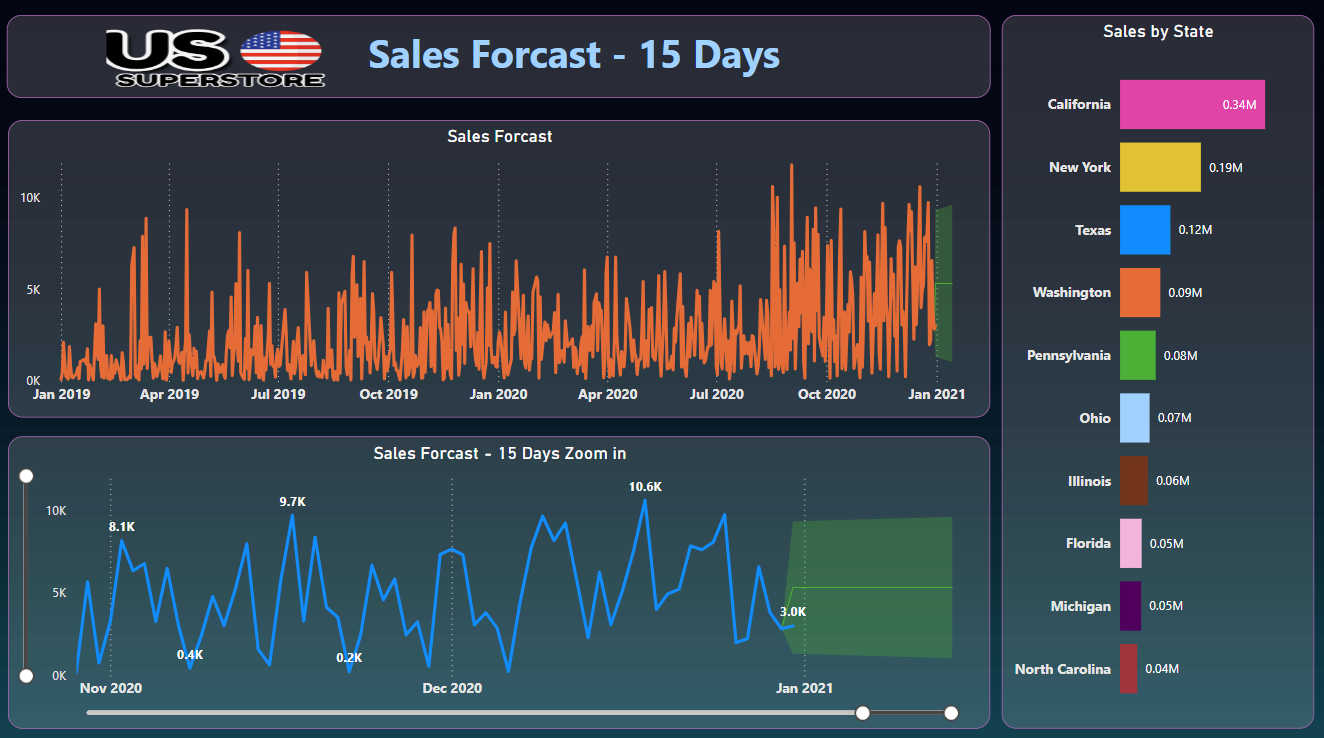

Layout of this report page (visuals, bound fields, positions):
{"tool":"powerbi","page":{"name":"Page 2","canvas":[1280,720],"ordinal":1},"visuals":[{"type":"lineChart","title":"Sales Forcast","fields":{"Y":["Sum(Super_Store_Sales.Sales)"],"Category":["Super_Store_Sales.Order Date"]},"box":[10.1,120.3,948.1,287.3],"z":0},{"type":"lineChart","title":"Sales Forcast - 15 Days Zoom in","fields":{"Y":["Sum(Super_Store_Sales.Sales)"],"Category":["Super_Store_Sales.Order Date"]},"box":[10.1,425.3,948.1,282.3],"z":1000},{"type":"textbox","box":[8.9,19,949.4,79.7],"z":2000},{"type":"barChart","title":"Sales by State","fields":{"Category":["Super_Store_Sales.State"],"Y":["Sum(Super_Store_Sales.Sales)"]},"box":[968.4,19,301.3,688.6],"z":3000},{"type":"image","box":[81.5,0,246.9,128.4],"z":4000}]}

Visuals, with their boxes in screenshot pixels (x1, y1, x2, y2), scaled from the page's 1280x720 canvas onto the 1324x738 screenshot:
"Sales Forcast" lineChart: <region>10, 123, 991, 418</region>
"Sales Forcast - 15 Days Zoom in" lineChart: <region>10, 436, 991, 725</region>
textbox: <region>9, 19, 991, 101</region>
"Sales by State" barChart: <region>1002, 19, 1313, 725</region>
image: <region>84, 0, 340, 132</region>
